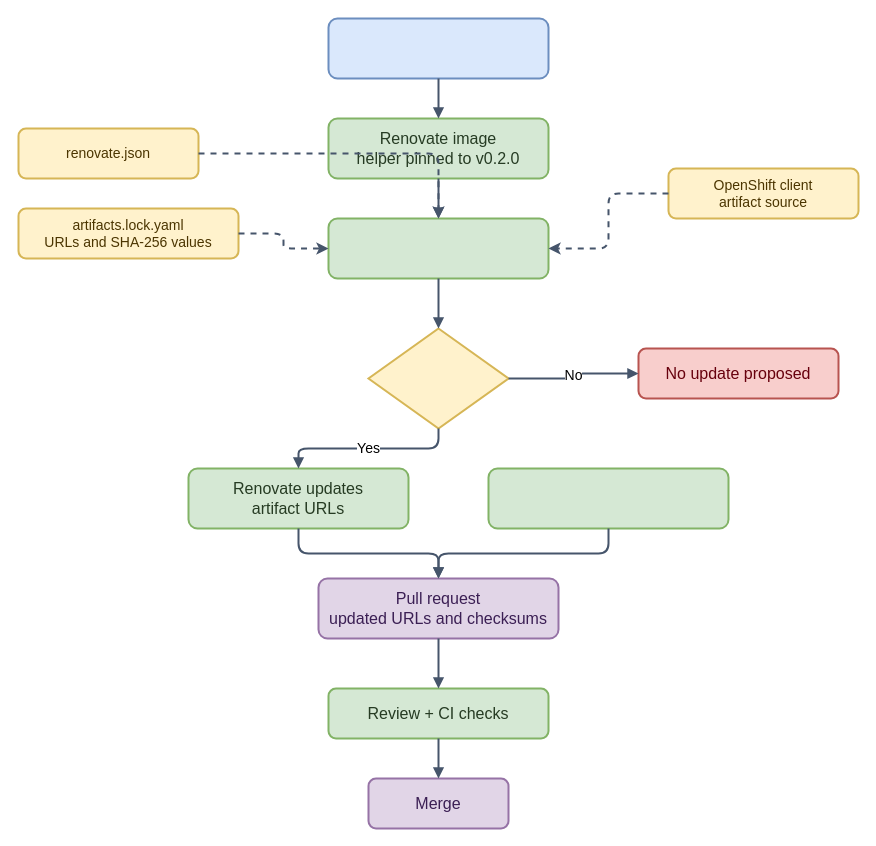
Image size: 876x846. Some labels were removed from this diagram. The shapes that lost their labels are listed below. From the top down, each one's centre as x and y in pixels, then its label:
At pixel 438 48: "MintMaker schedules a run".
At pixel 438 248: "Renovate checks configured dependencies".
At pixel 438 378: "Newer OC client version?".
At pixel 608 498: "update_artifacts_lockfile refreshes SHA-256 values".
